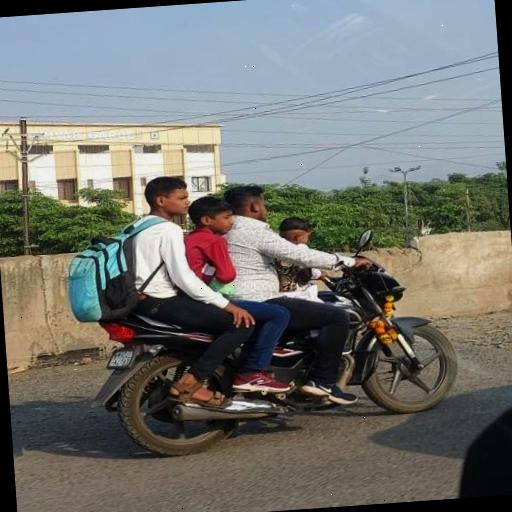no helmet: (224, 180, 292, 283)
triple riding: (56, 163, 470, 438)
